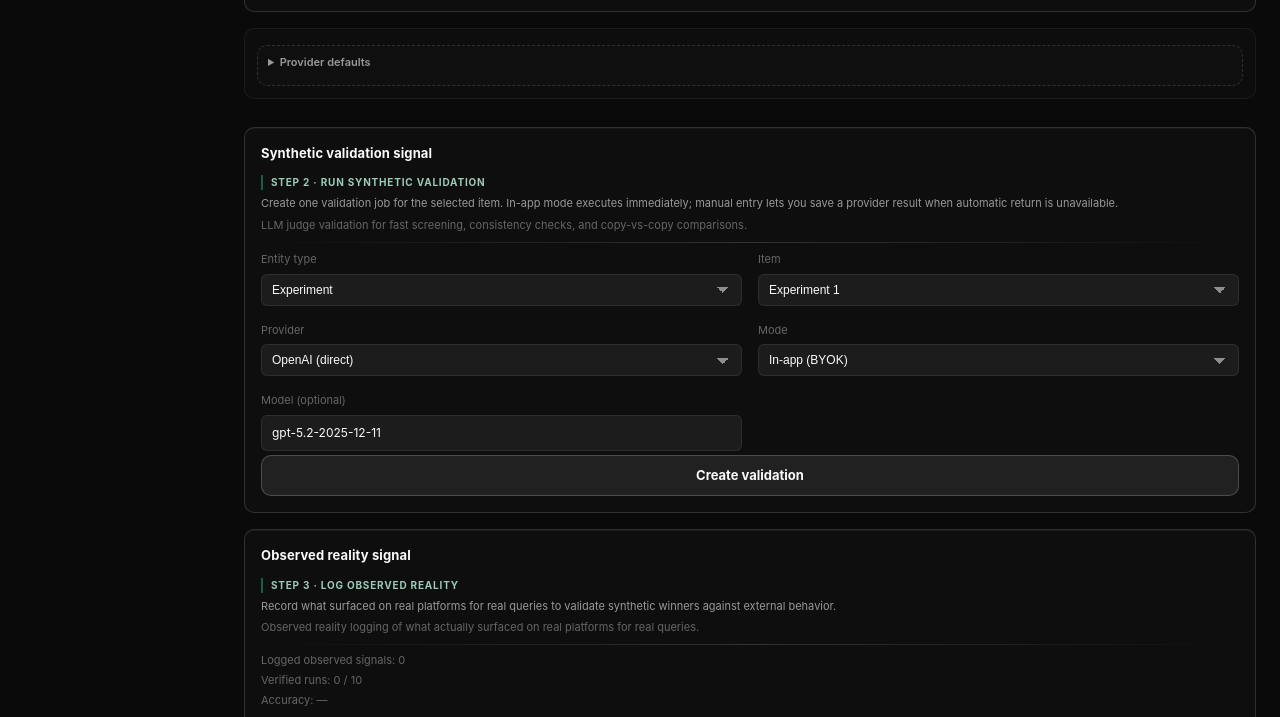
it: ValidationPage › uses readable provider labels
(page scrolled)
Expected: the heading "Synthetic validation signal" is shown, [261,144,432,163]
Select "ChatGPT provider run" in the dropdown labelled "Mode" at (998, 360), box [758,344,1239,376]
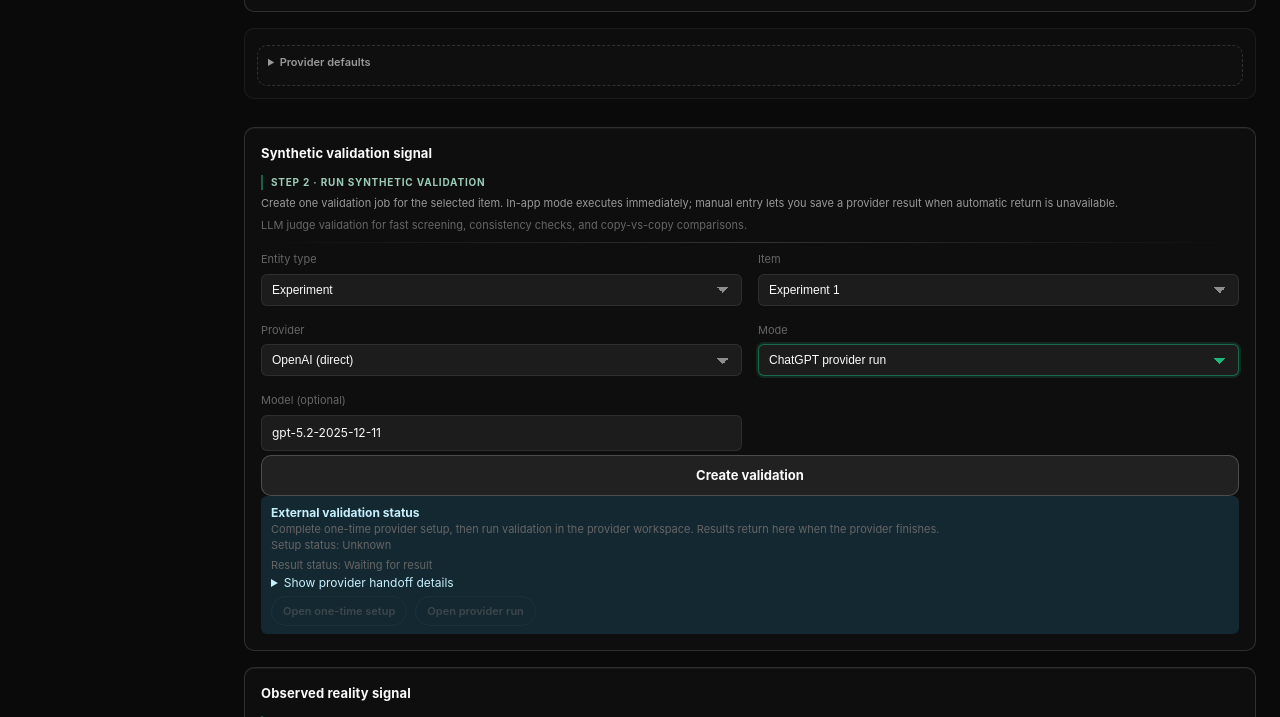
Result: the text "External validation status" is shown at [271,505,420,520]
Result: the text "Setup status: Unknown" is shown at [271,538,391,554]
Result: the text "Result status: Waiting for result" is shown at [271,558,432,574]
Click the heading "Show provider handoff details" at (369, 582), box [284,575,454,590]
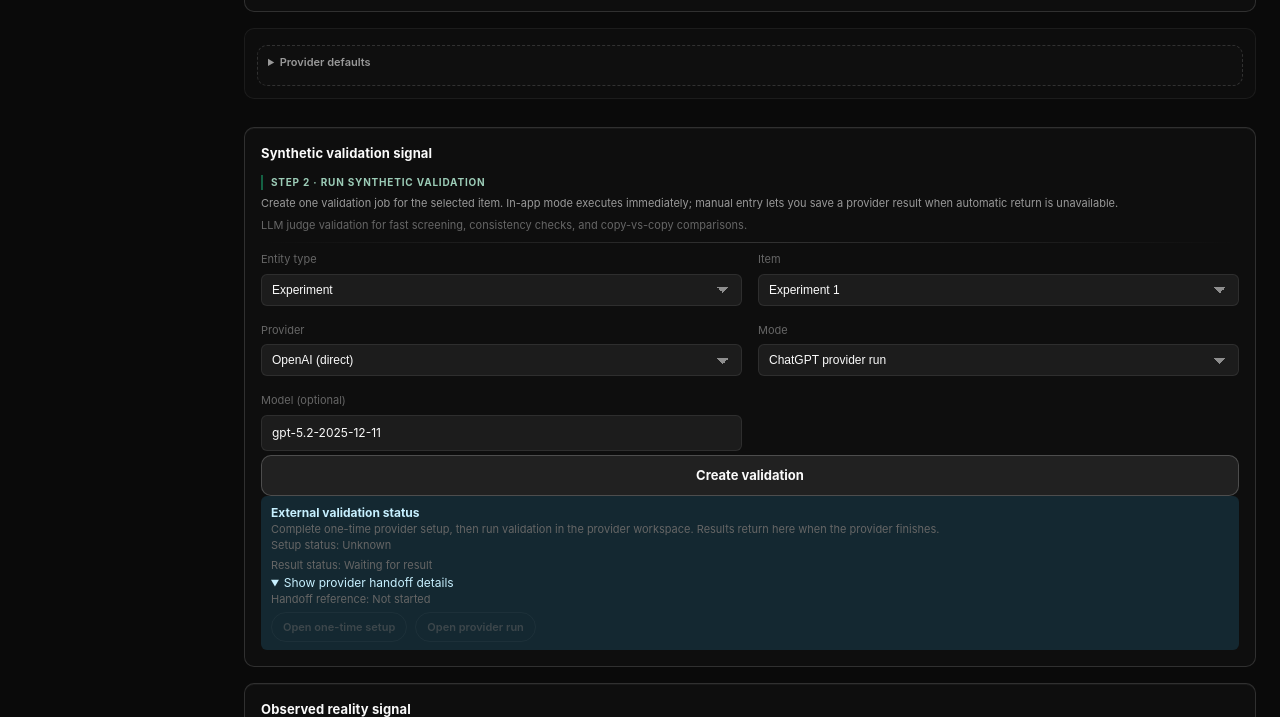
Result: the text "Handoff reference: Not started" is shown at [271,592,430,606]
